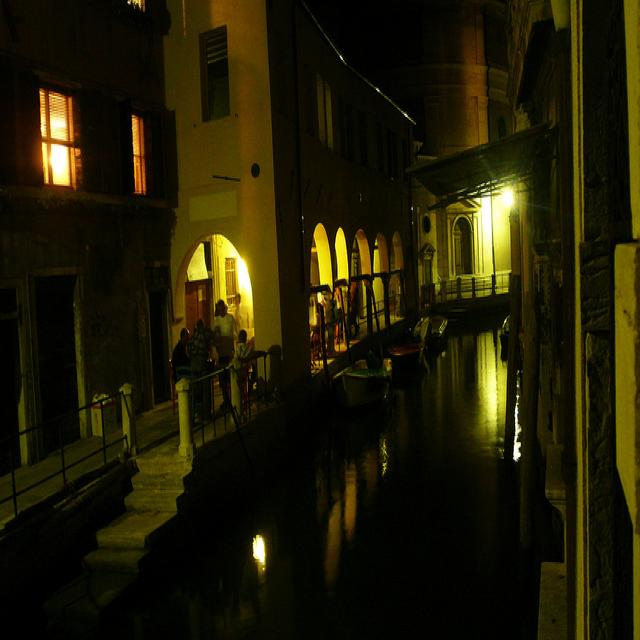Boat: (300, 286, 402, 435), (413, 300, 459, 366), (377, 322, 422, 379)
People: (210, 289, 239, 377), (187, 317, 207, 408), (232, 325, 253, 404), (173, 321, 190, 394)
